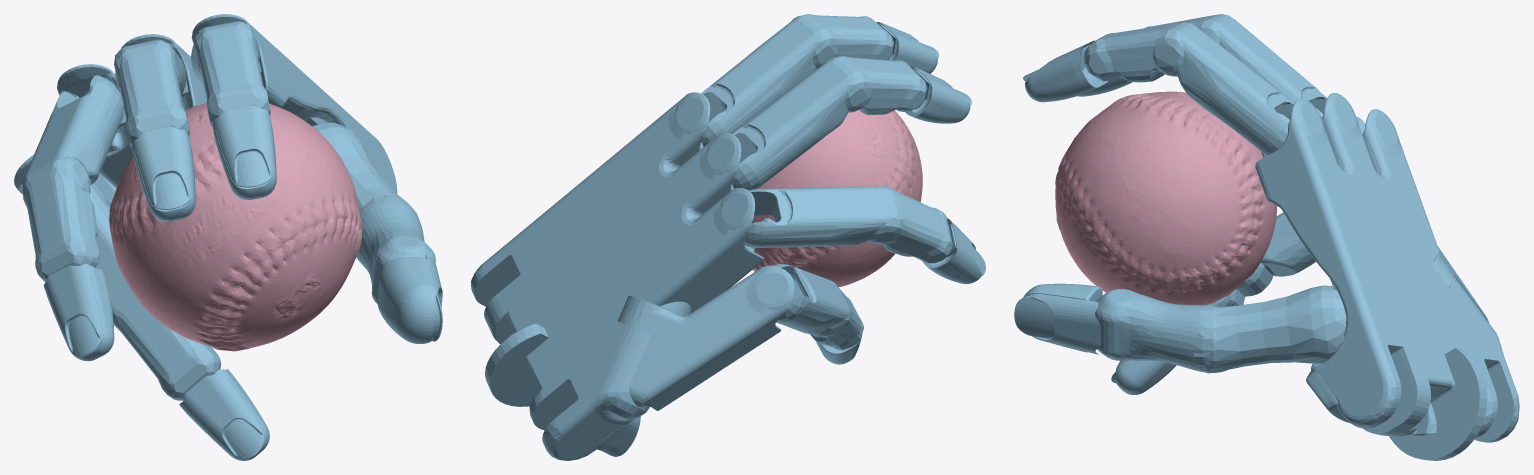
3 renders of one model, left to right at view 1: azimuth 30°, elevation 25°; view 2: azimuth 150°, elevation 25°; view 3: azimuth 270°, elevation 25°, orthographic. The views are drawn at different scales.
Visible parts, largest first — view 1: world, baseball.stl; view 2: world, baseball.stl; view 3: world, baseball.stl.
Boxes of the visible parts, box(x1,y1,x2,y2) form: world: box(14, 14, 442, 460); baseball.stl: box(109, 103, 362, 351); world: box(471, 14, 985, 460); baseball.stl: box(752, 110, 922, 287); world: box(1014, 14, 1519, 460); baseball.stl: box(1055, 91, 1276, 305).
Bounding box in the file's own units: 0.1541 × 0.1351 × 0.1654.
